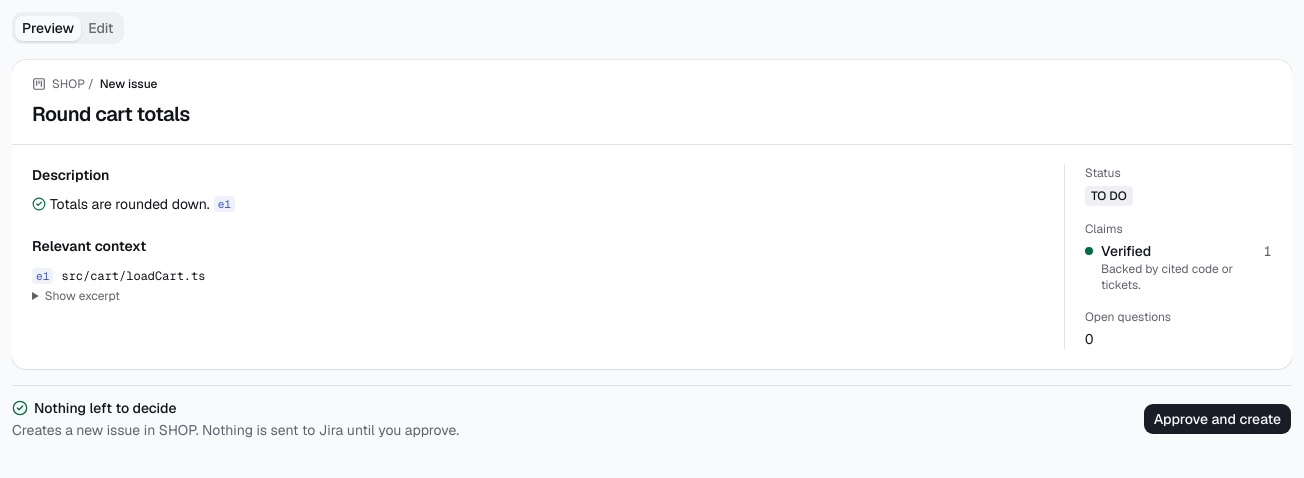
Test case: DraftWorkspace › publishes a ready draft on the first click and shows where it landed
This screenshot has width=1304, height=478.
Expected: the text "Nothing left to decide" is shown, [12, 399, 176, 417]
Click the button "Approve and create" at (1217, 419), box [1143, 403, 1292, 435]
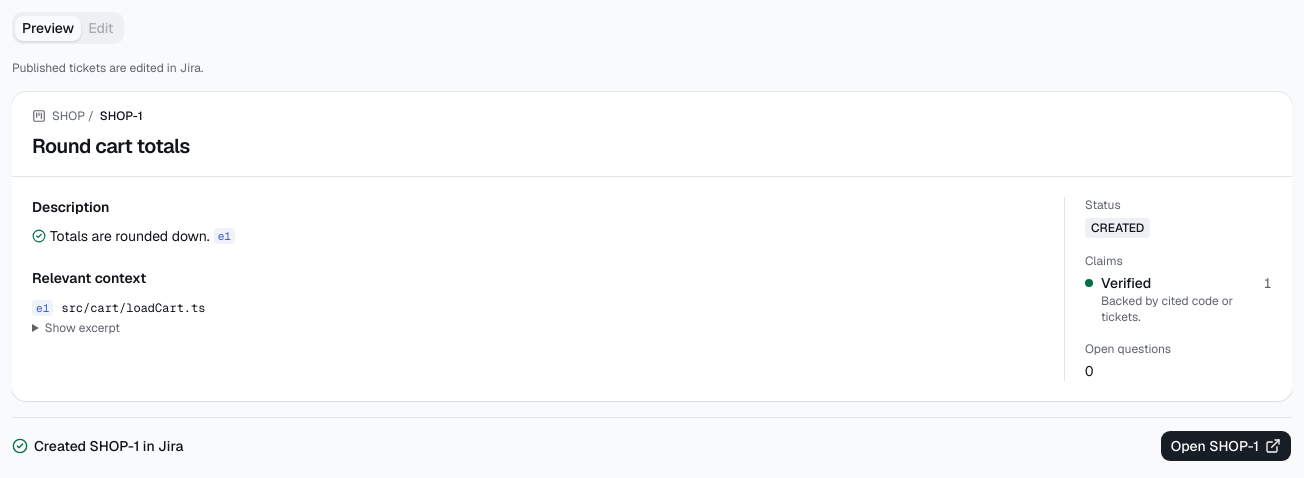
Expected: the text "Created SHOP-1 in Jira" is shown, [12, 436, 183, 456]
